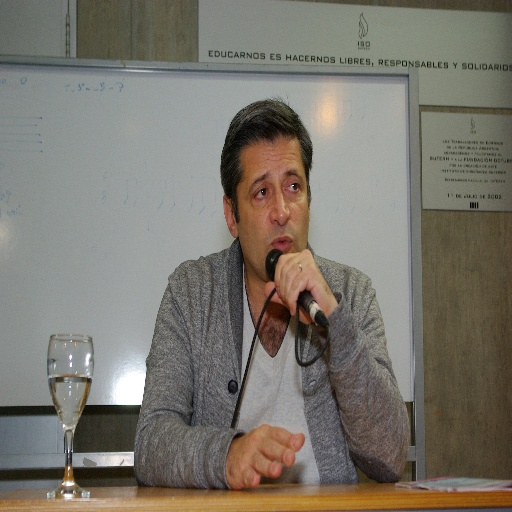hand: (263, 245, 337, 324), (223, 422, 308, 489)
